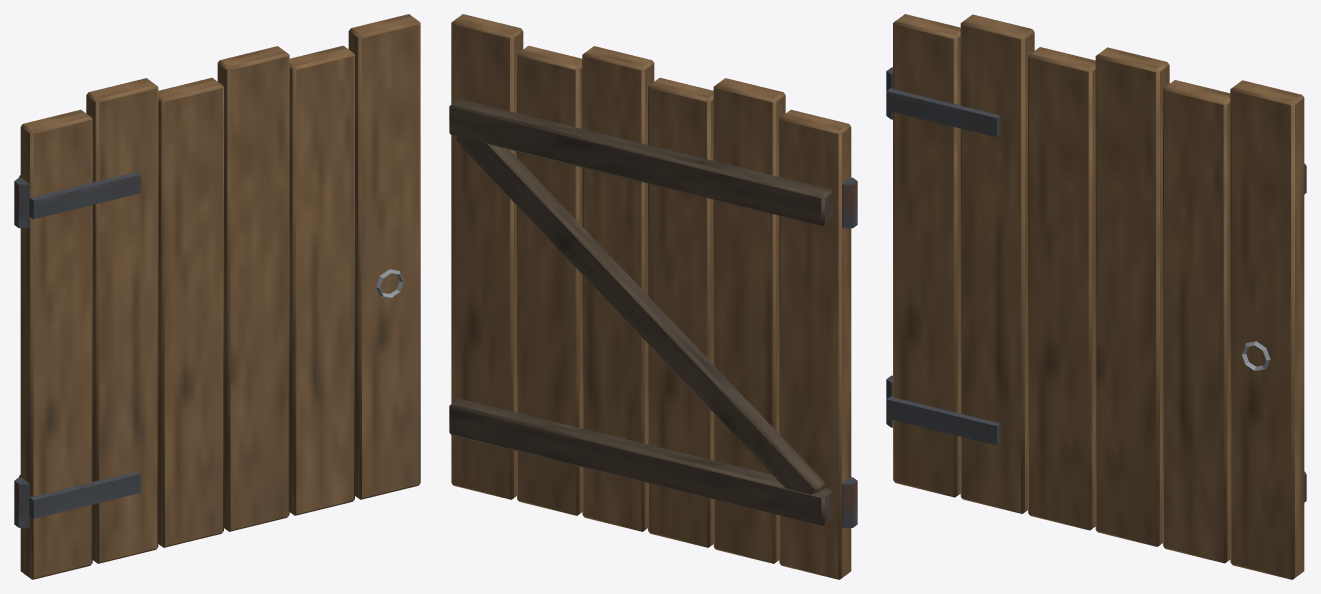
File: SM_Gate_Door.fbx
3 views of the same model, side by side, from view 1: azimuth 30°, elevation 25°; view 2: azimuth 150°, elevation 25°; view 3: azimuth 330°, elevation 25° (orthographic). The views are drawn at different scales.
Visible parts, largest first — view 1: SM_Gate_Door; view 2: SM_Gate_Door; view 3: SM_Gate_Door.
Boxes of the visible parts, bbox=[...] form: SM_Gate_Door: bbox=[14, 14, 420, 579]; SM_Gate_Door: bbox=[449, 14, 857, 579]; SM_Gate_Door: bbox=[886, 14, 1306, 579].
Size of the model in its own units: 6.7 by 7.45 by 0.74.
Materials: 1 (1 with a texture image).
